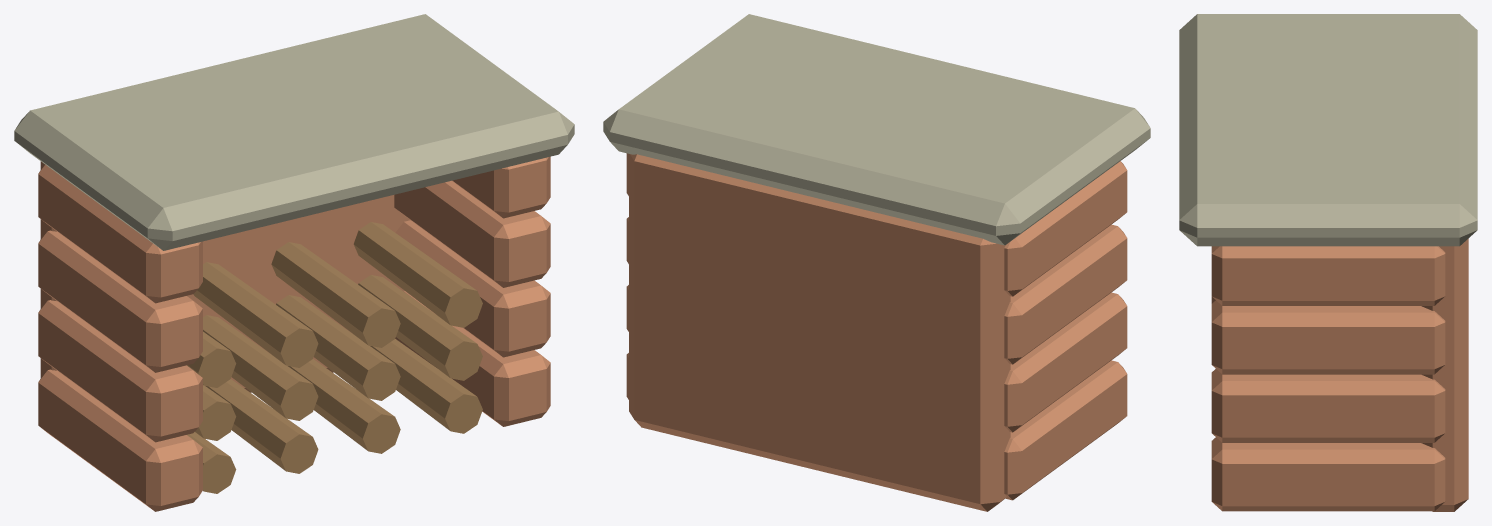
3 views of the same model, side by side, from view 1: azimuth 30°, elevation 25°; view 2: azimuth 150°, elevation 25°; view 3: azimuth 270°, elevation 25° (orthographic). The views are drawn at different scales.
Visible parts, largest first — view 1: GF-133 Capped dry fuel storage alcove batched; view 2: GF-133 Capped dry fuel storage alcove batched; view 3: GF-133 Capped dry fuel storage alcove batched.
Part boxes in pixels (x1,y1,x2,y2): GF-133 Capped dry fuel storage alcove batched: (14,14,574,511); GF-133 Capped dry fuel storage alcove batched: (603,14,1150,511); GF-133 Capped dry fuel storage alcove batched: (1179,14,1477,511).
Size of the model in its own units: 1.35 by 0.975 by 0.83.
